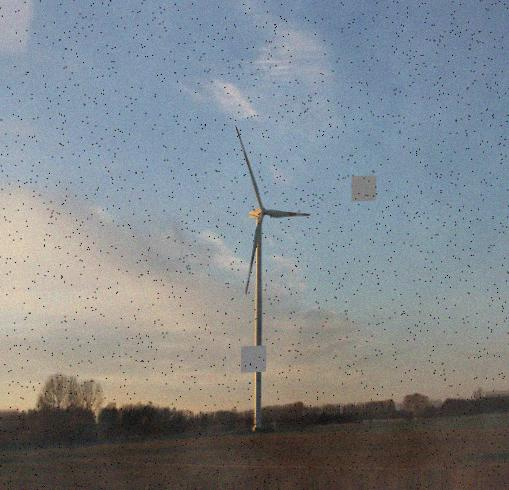wind turbine: (235, 127, 313, 428)
